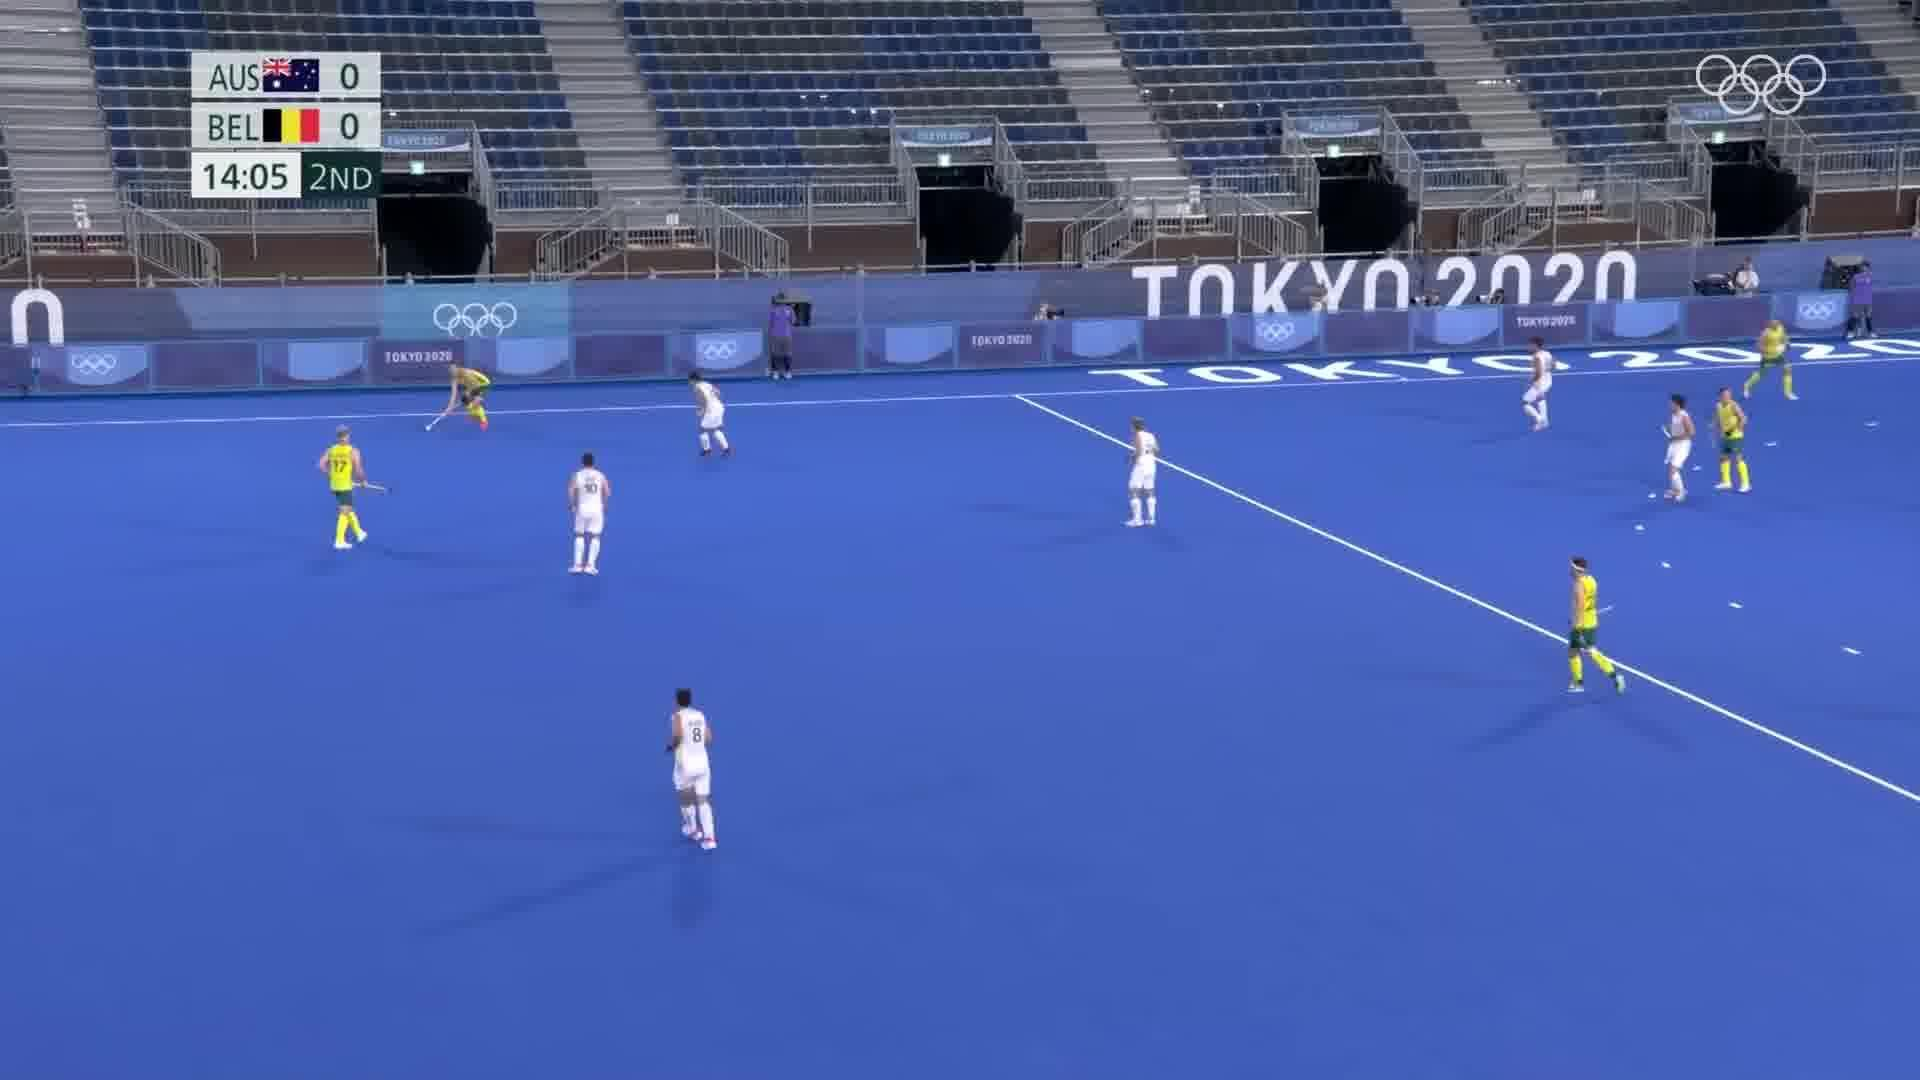ball: (422, 422, 435, 433)
